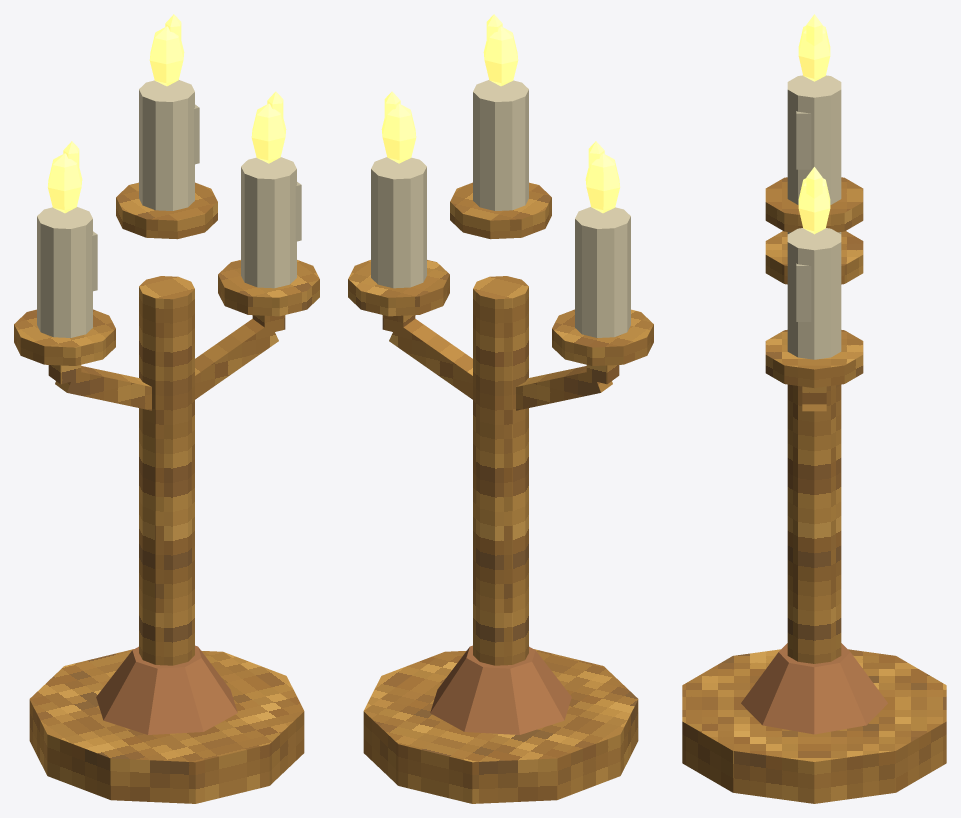
3 views of the same model, side by side, from view 1: azimuth 30°, elevation 25°; view 2: azimuth 150°, elevation 25°; view 3: azimuth 270°, elevation 25° (orthographic).
Parts seen in each view (by area): view 1: body_brass, body_cream, body_copper, body_state_flame, body_linen; view 2: body_brass, body_cream, body_copper, body_state_flame; view 3: body_brass, body_cream, body_copper, body_state_flame, body_linen.
Part boxes in pixels (x1=…): body_brass: x1=14, y1=182, x2=319, y2=803; body_cream: x1=37, y1=80, x2=296, y2=337; body_copper: x1=96, y1=645, x2=237, y2=734; body_state_flame: x1=47, y1=14, x2=286, y2=213; body_linen: x1=92, y1=104, x2=301, y2=291; body_brass: x1=348, y1=182, x2=653, y2=803; body_cream: x1=371, y1=80, x2=630, y2=337; body_copper: x1=430, y1=645, x2=571, y2=734; body_state_flame: x1=381, y1=14, x2=620, y2=213; body_brass: x1=682, y1=177, x2=946, y2=803; body_cream: x1=787, y1=75, x2=841, y2=359; body_copper: x1=741, y1=643, x2=887, y2=734; body_state_flame: x1=798, y1=14, x2=830, y2=234; body_linen: x1=796, y1=111, x2=811, y2=321.
Size of the model in its own units: 0.66 by 1.58 by 0.5136.
Materials: 5 (1 with a texture image).
